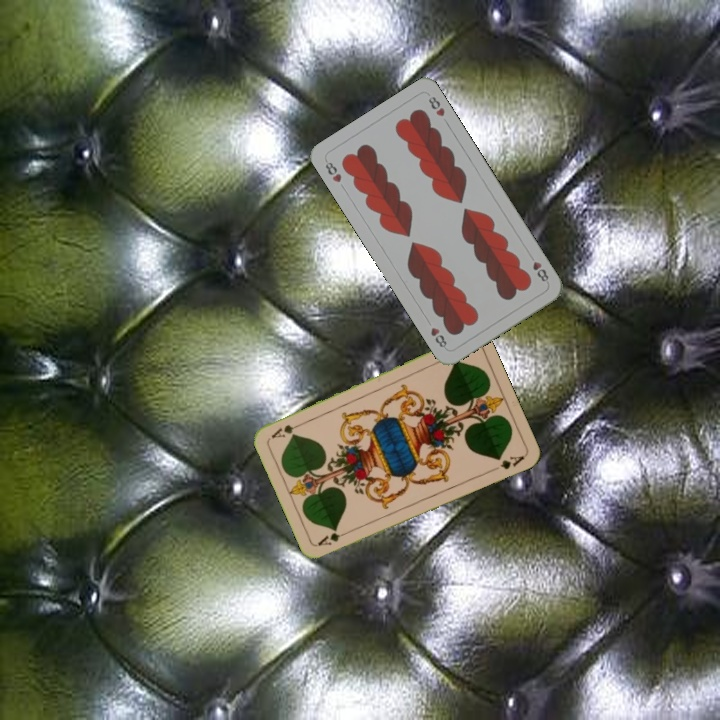GA: (313, 526, 353, 548)
H8: (524, 250, 551, 286), (321, 155, 344, 185)
